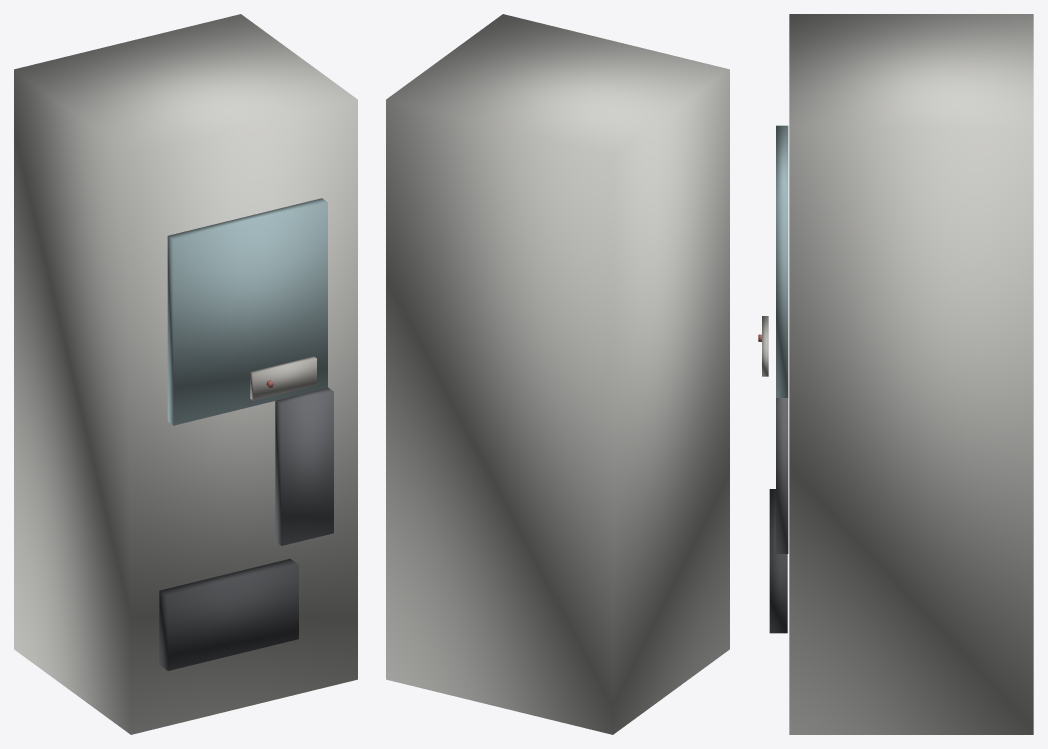
The model's file is motel_ice_machine__compact.glb.
3 renders of one model, left to right at view 1: azimuth 30°, elevation 25°; view 2: azimuth 150°, elevation 25°; view 3: azimuth 270°, elevation 25°, orthographic. The views are drawn at different scales.
Parts seen in each view (by area): view 1: world; view 2: world; view 3: world.
Part boxes in pixels (bbox=[...]): world: bbox=[14, 14, 357, 734]; world: bbox=[386, 14, 729, 734]; world: bbox=[758, 14, 1033, 734].
Size of the model in its own units: 0.6552 by 1.6 by 0.6588.
